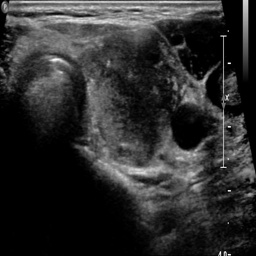mass: (85, 30, 173, 167)
